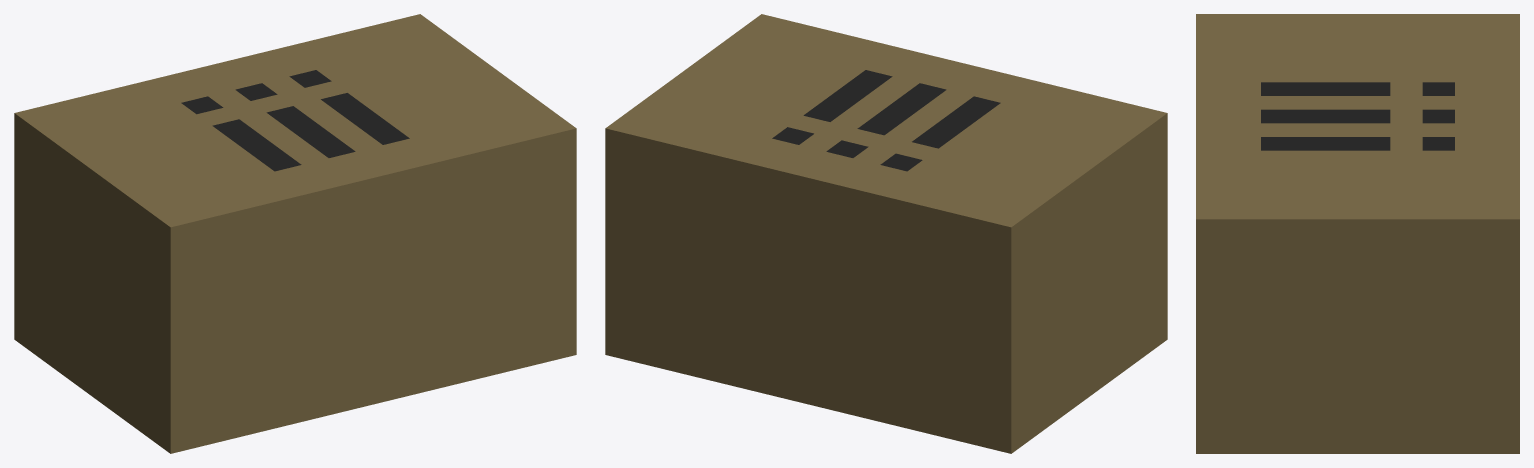
Rendered from ammo_box.obj.
3 renders of one model, left to right at view 1: azimuth 30°, elevation 25°; view 2: azimuth 150°, elevation 25°; view 3: azimuth 270°, elevation 25°, orthographic. The views are drawn at different scales.
Bounding box in the file's own units: 1.5 × 0.8 × 1.
1 material, 1 textured.
